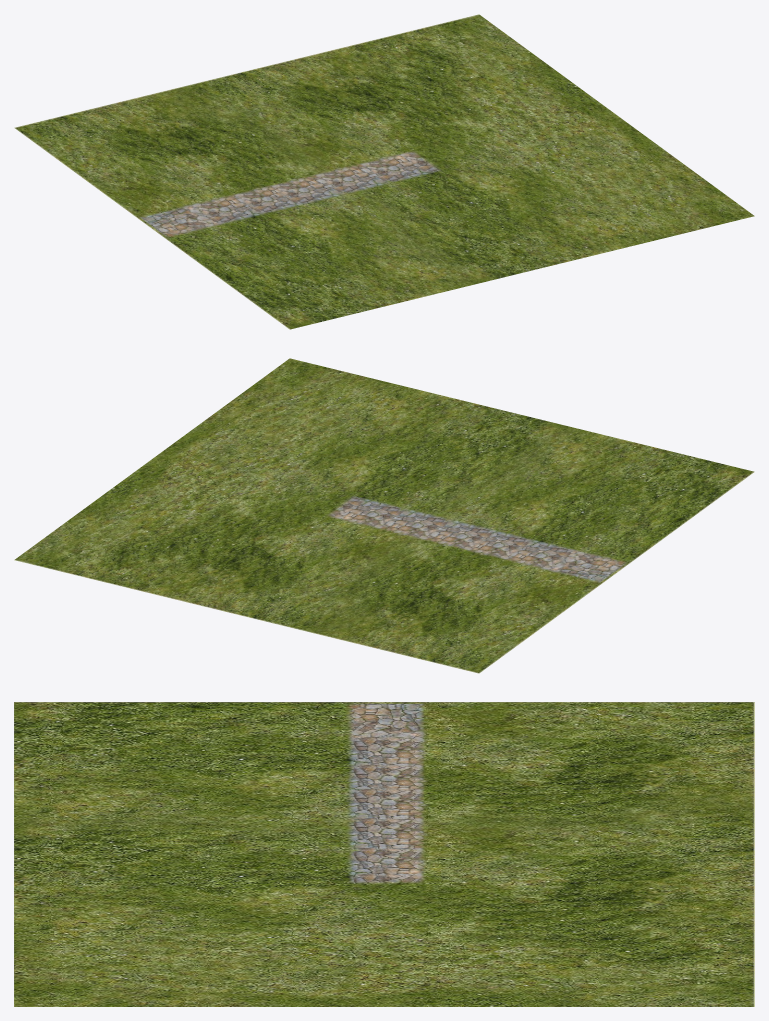
3 views of the same model, one above another, from view 1: azimuth 30°, elevation 25°; view 2: azimuth 150°, elevation 25°; view 3: azimuth 270°, elevation 25° (orthographic). The views are drawn at different scales.
Parts seen in each view (by area): view 1: Floor_Plane001; view 2: Floor_Plane001; view 3: Floor_Plane001.
Part boxes in pixels (x1=…): Floor_Plane001: x1=14, y1=14, x2=754, y2=329; Floor_Plane001: x1=14, y1=358, x2=754, y2=673; Floor_Plane001: x1=14, y1=702, x2=754, y2=1006.
Bounding box in the file's own units: 92.21 × 6.2e-05 × 94.69.
1 material, 1 textured.
